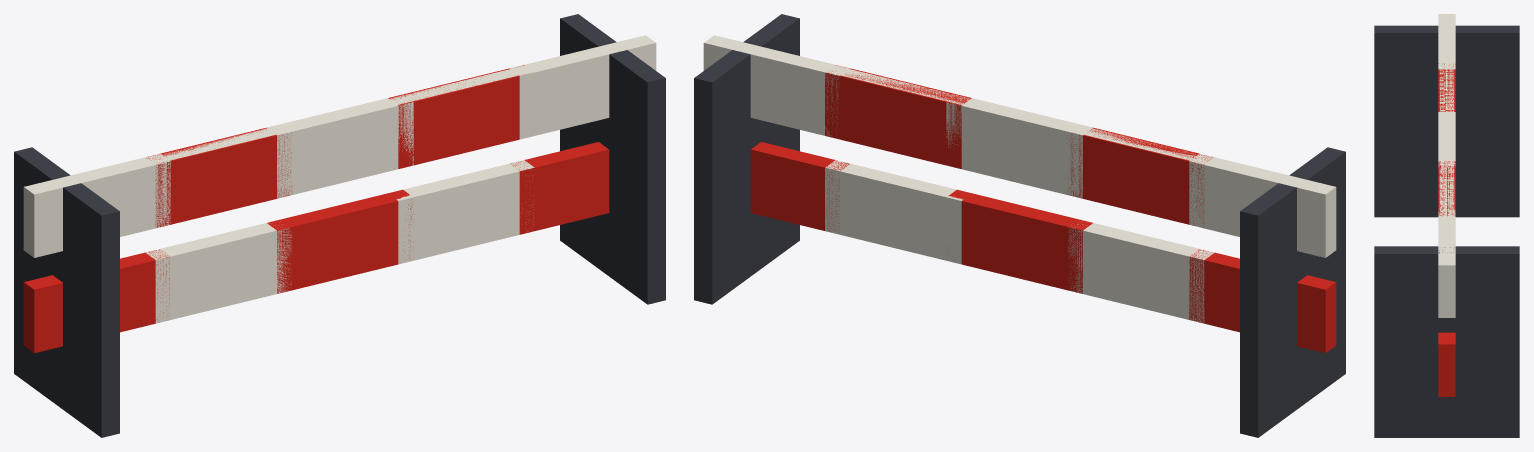
Rendered from road_barrier.glb.
The picture shows the model from 3 angles, left to right: view 1: azimuth 30°, elevation 25°; view 2: azimuth 150°, elevation 25°; view 3: azimuth 270°, elevation 25°; orthographic projection. The views are drawn at different scales.
Parts seen in each view (by area): view 1: road_barrier; view 2: road_barrier; view 3: road_barrier.
Part boxes in pixels (left/top/right/bottom): road_barrier: left=14, top=14, right=665, bottom=437; road_barrier: left=694, top=14, right=1345, bottom=437; road_barrier: left=1374, top=14, right=1519, bottom=437.
Bounding box in the file's own units: 2.05 × 0.7 × 0.5.
